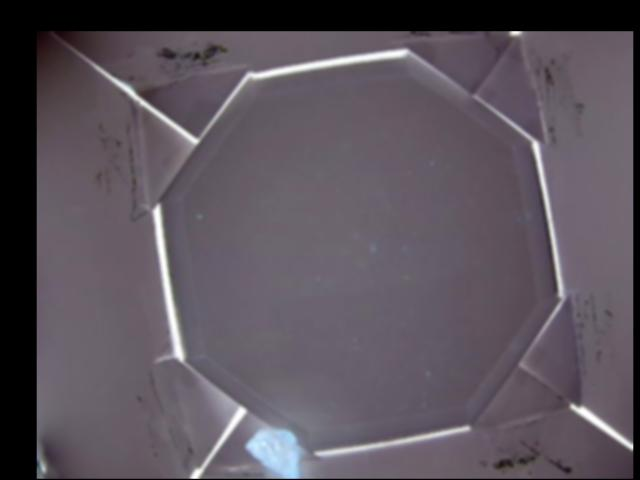Brisk: (243, 427, 300, 478)
